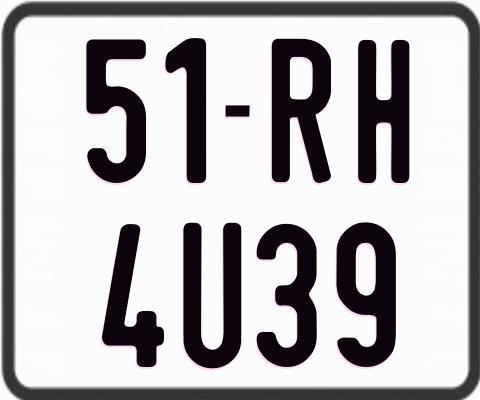1: (162, 35, 208, 185)
3: (255, 224, 321, 368)
4: (102, 222, 168, 366)
5: (85, 36, 145, 183)
9: (336, 219, 400, 366)
H: (355, 39, 408, 186)
R: (270, 39, 329, 187)
U: (180, 221, 244, 370)
